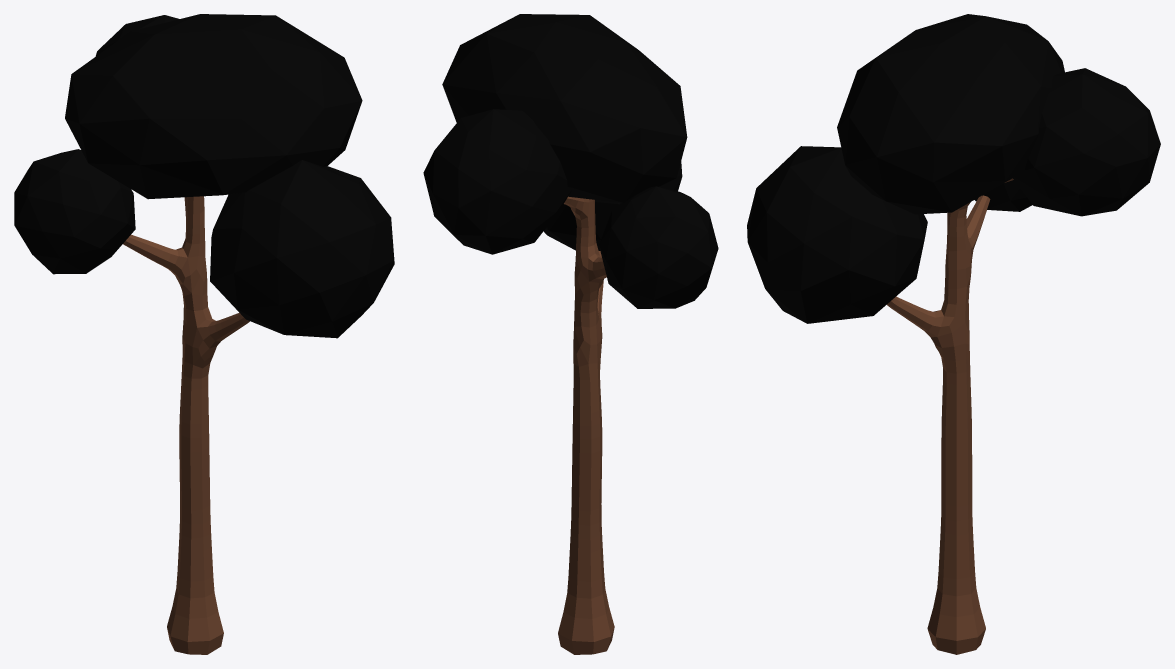
The model's file is Tree_Foliage_Large-2.fbx.
The picture shows the model from 3 angles, left to right: view 1: azimuth 30°, elevation 25°; view 2: azimuth 150°, elevation 25°; view 3: azimuth 270°, elevation 25°; orthographic projection.
Visible parts, largest first — view 1: Tree_Foliage_Large-2; view 2: Tree_Foliage_Large-2; view 3: Tree_Foliage_Large-2.
Boxes of the visible parts, <box> form: Tree_Foliage_Large-2: <box>14,14,394,654</box>; Tree_Foliage_Large-2: <box>423,14,718,654</box>; Tree_Foliage_Large-2: <box>747,14,1160,654</box>.
Bounding box in the file's own units: 0.8023 × 1.63 × 0.973.
